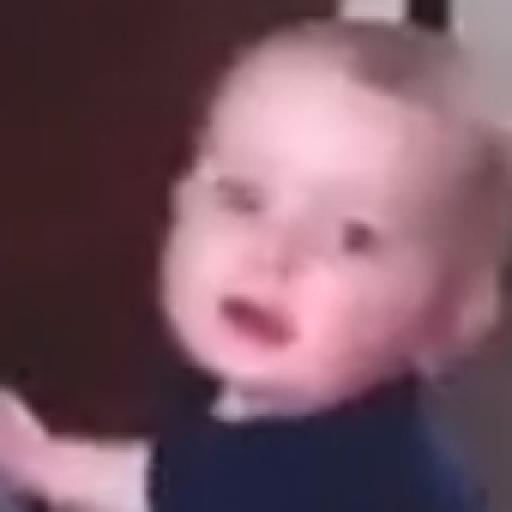Autism: (168, 39, 512, 416)
